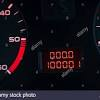Digital_Meter: (44, 46, 80, 72)
